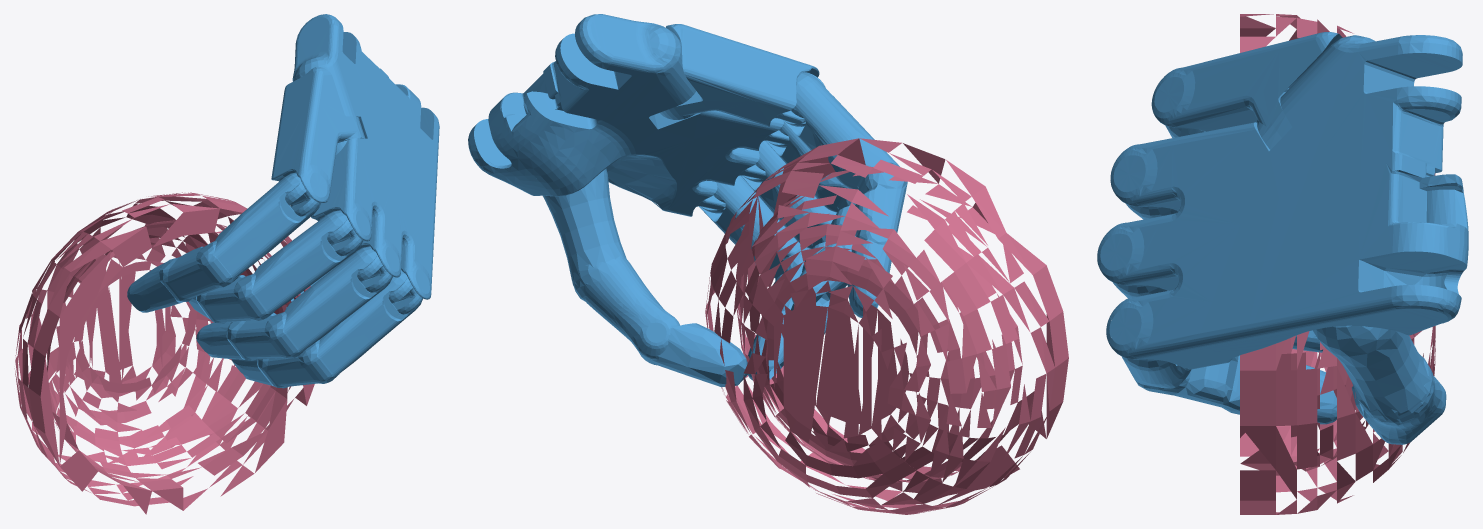
3 renders of one model, left to right at view 1: azimuth 30°, elevation 25°; view 2: azimuth 150°, elevation 25°; view 3: azimuth 270°, elevation 25°, orthographic. The views are drawn at different scales.
Visible parts, largest first — view 1: 0; view 2: 0; view 3: 0.
Part boxes in pixels (left/top/right/bottom): 0: left=14, top=14, right=439, bottom=514; 0: left=468, top=14, right=1068, bottom=514; 0: left=1097, top=14, right=1468, bottom=514.
Bounding box in the file's own units: 0.2215 × 0.1871 × 0.1031.
